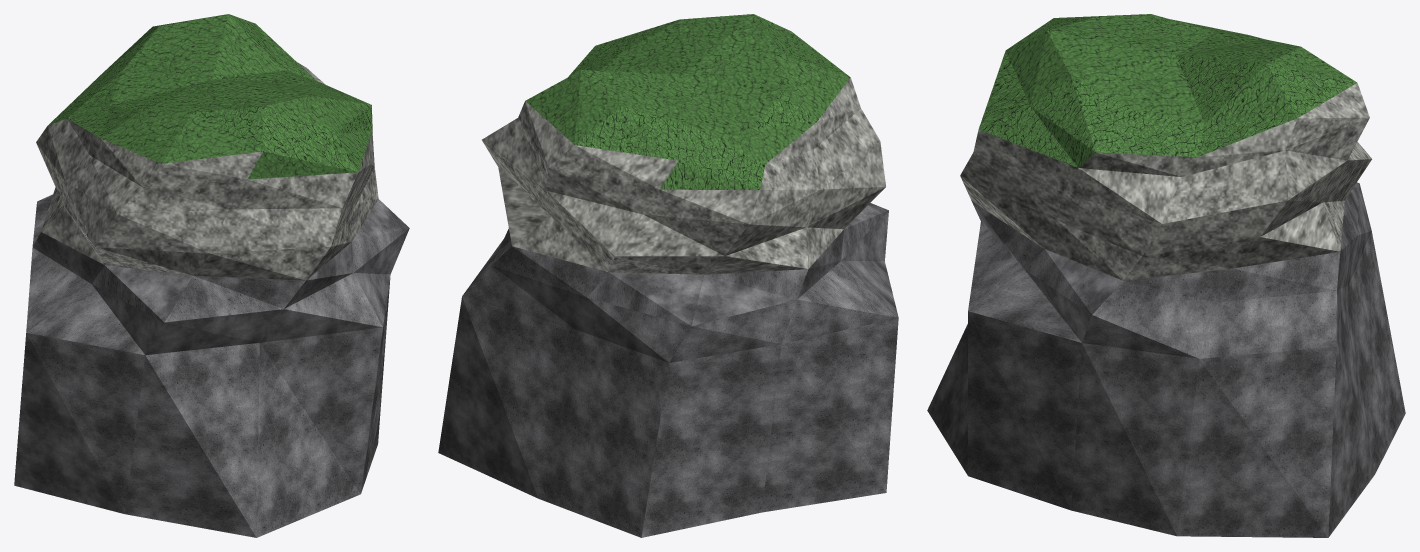
The model's file is sea_rock.fbx.
3 views of the same model, side by side, from view 1: azimuth 30°, elevation 25°; view 2: azimuth 150°, elevation 25°; view 3: azimuth 270°, elevation 25° (orthographic). The views are drawn at different scales.
Visible parts, largest first — view 1: sea_rock; view 2: sea_rock; view 3: sea_rock.
Part boxes in pixels (x1,y1,x2,y2): sea_rock: [14, 14, 409, 537]; sea_rock: [438, 14, 898, 537]; sea_rock: [927, 14, 1405, 537].
Size of the model in its own units: 570 by 563 by 589.
